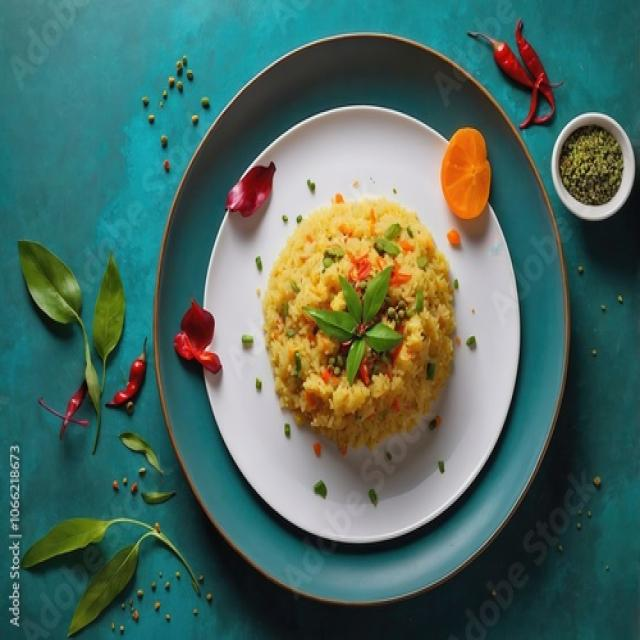UPMA: (264, 195, 458, 453), (264, 199, 457, 453)
